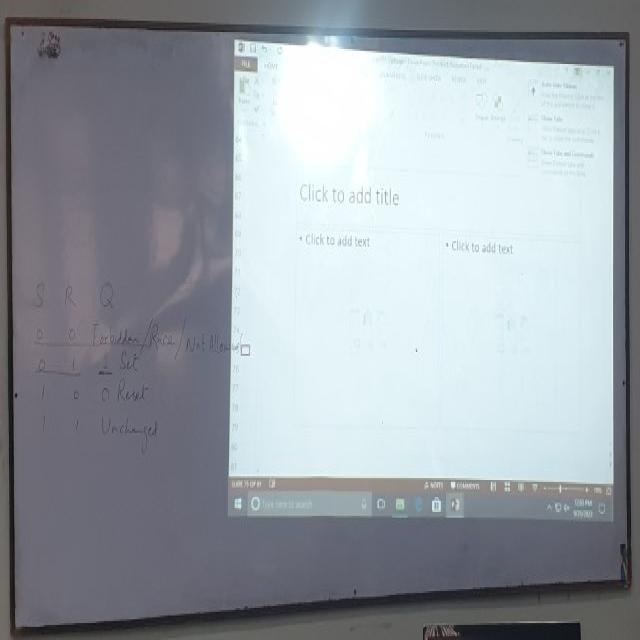Slide: (228, 36, 615, 525)
White-board: (7, 20, 629, 630)
